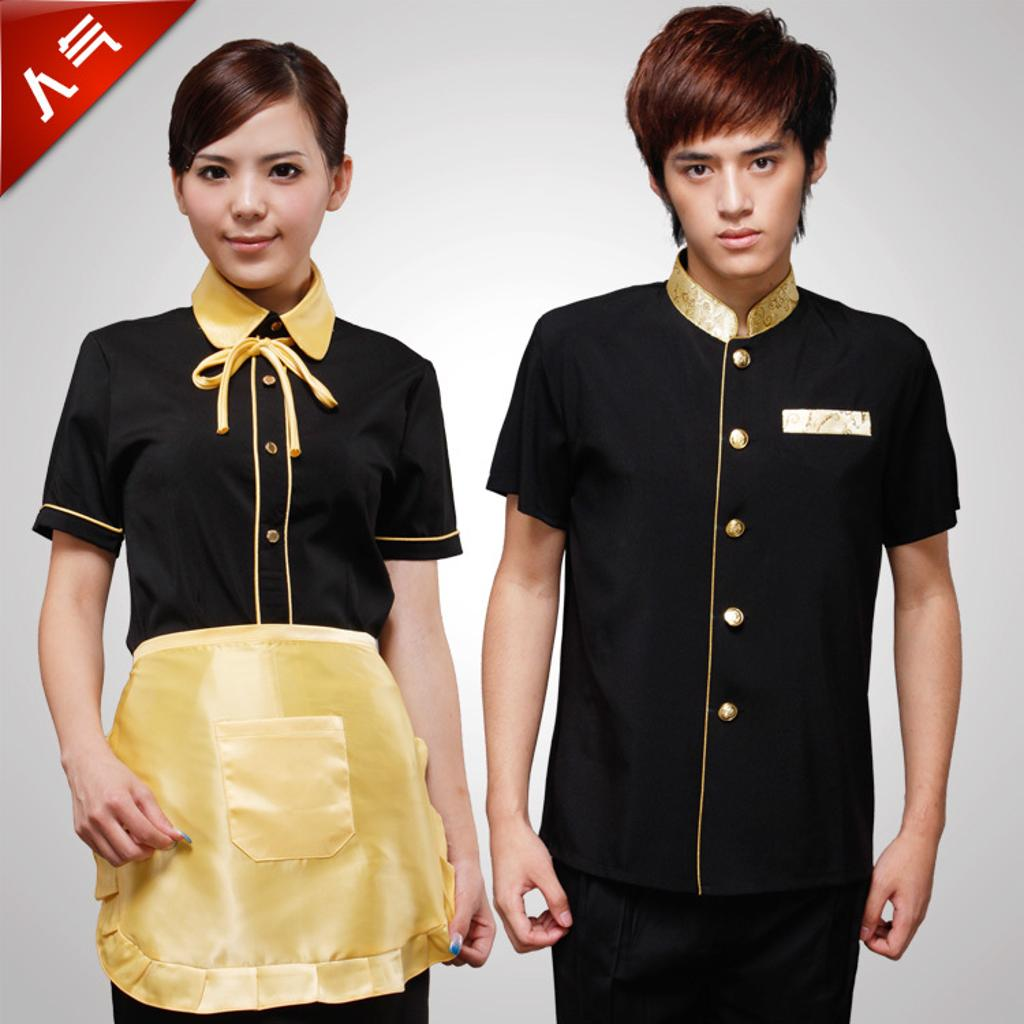face: (658, 76, 806, 276), (184, 92, 328, 284)
